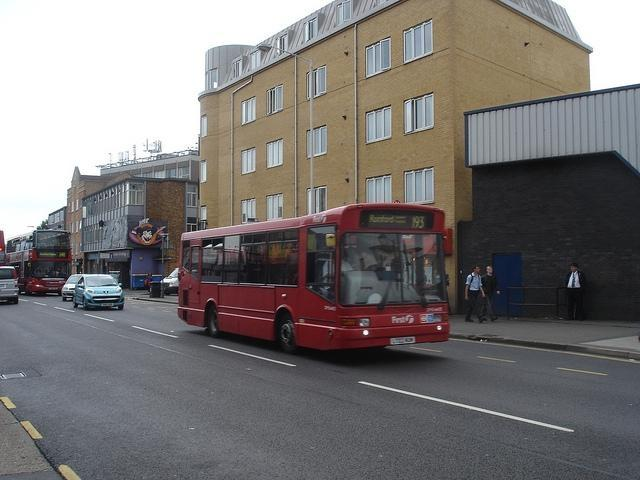bus: (175, 204, 456, 356), (4, 230, 74, 295)
car: (72, 273, 124, 310), (0, 264, 22, 304), (62, 273, 83, 302), (162, 269, 178, 295)
